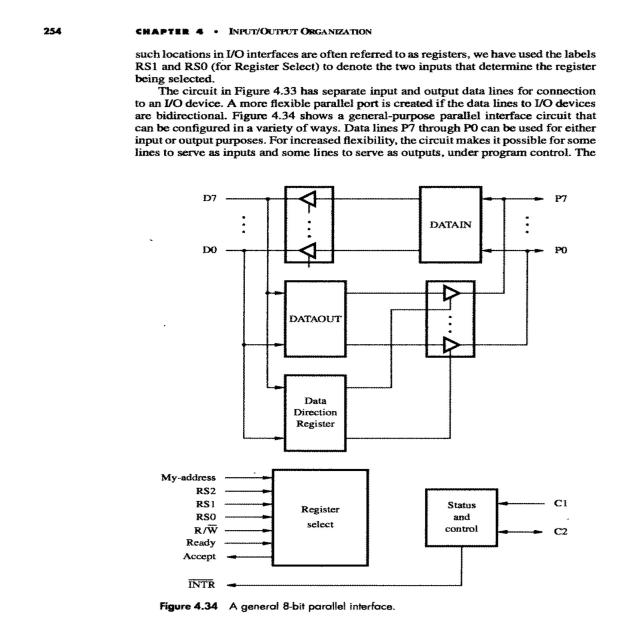diagram: (128, 171, 590, 638)
